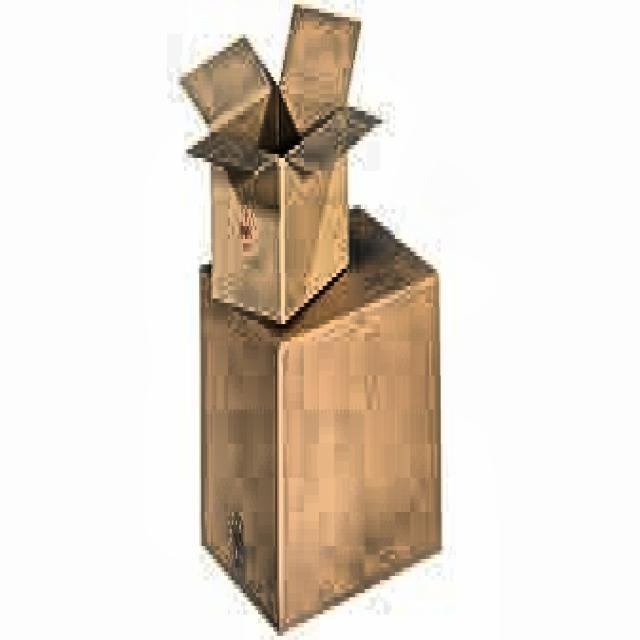cardboard: (195, 200, 445, 636), (180, 8, 383, 316)
